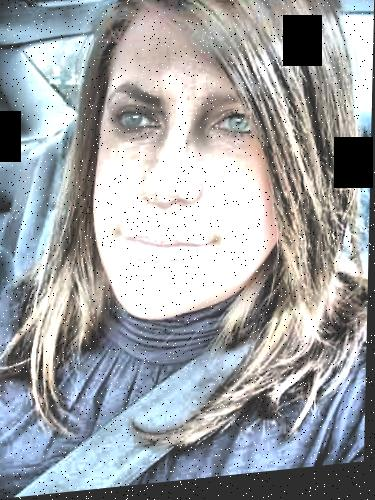seatbelt: (23, 342, 273, 493)
